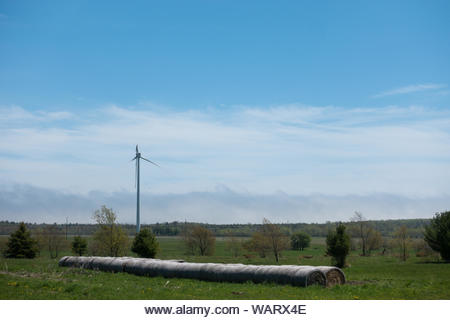faulty: (124, 141, 158, 201)
